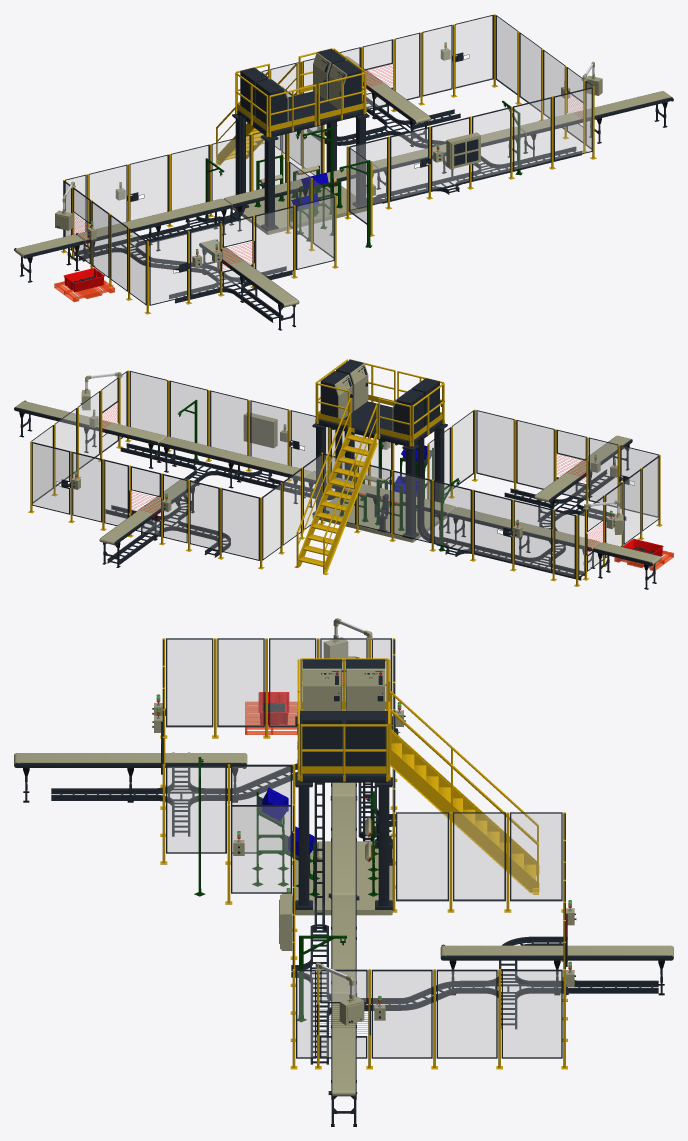
The model's file is Main.FBX.
3 renders of one model, top to bottom at view 1: azimuth 30°, elevation 25°; view 2: azimuth 150°, elevation 25°; view 3: azimuth 270°, elevation 25°, orthographic. The views are drawn at different scales.
Visible parts, largest first — view 1: 圍欄, 二樓圍欄, 輸送帶, 軌道, 裝箱, 木板片; view 2: 圍欄, 二樓圍欄, 輸送帶, 軌道, 裝箱; view 3: 圍欄, 二樓圍欄, 輸送帶, 軌道, 木板片, 裝箱.
Part boxes in pixels (x1,y1,x2,y2): 圍欄: (55, 14, 602, 314); 二樓圍欄: (215, 48, 369, 241); 輸送帶: (14, 56, 673, 330); 軌道: (74, 97, 582, 322); 裝箱: (63, 268, 104, 291); 木板片: (54, 280, 114, 302); 圍欄: (28, 370, 662, 586); 二樓圍欄: (294, 359, 447, 574); 輸送帶: (14, 400, 661, 589); 軌道: (105, 429, 626, 580); 裝箱: (623, 538, 663, 556); 圍欄: (152, 618, 576, 1069); 二樓圍欄: (252, 658, 539, 915); 輸送帶: (14, 656, 673, 1126); 軌道: (51, 752, 658, 1064); 木板片: (245, 701, 297, 734); 裝箱: (258, 692, 289, 724).
Size of the model in its own units: 1936 by 402 by 1238.
